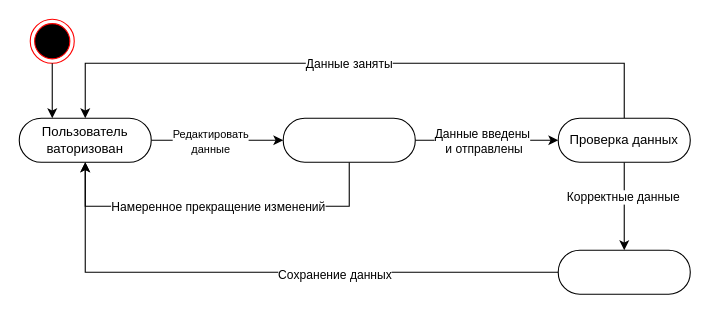
This 710x314 diagram has some shape labels left out. The centre of each missing label's shape, as x and y in pixels:
Ввод данных: point 348,139
Данные изменены: point 623,271
